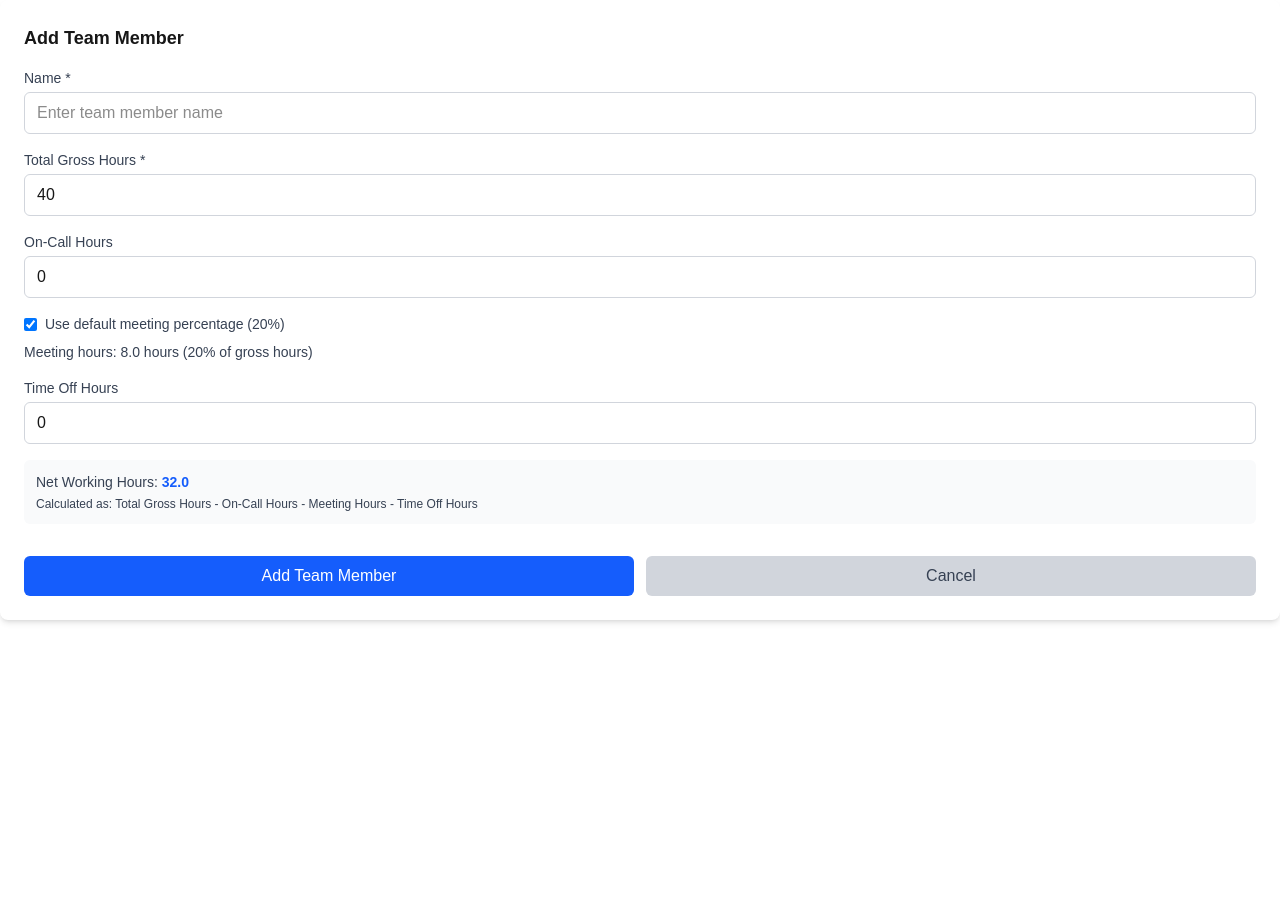
TeamMemberForm › should validate required name field
The width and height of the screenshot is (1280, 900).
Click the button "Add Team Member" at (329, 576), box [24,556,634,596]
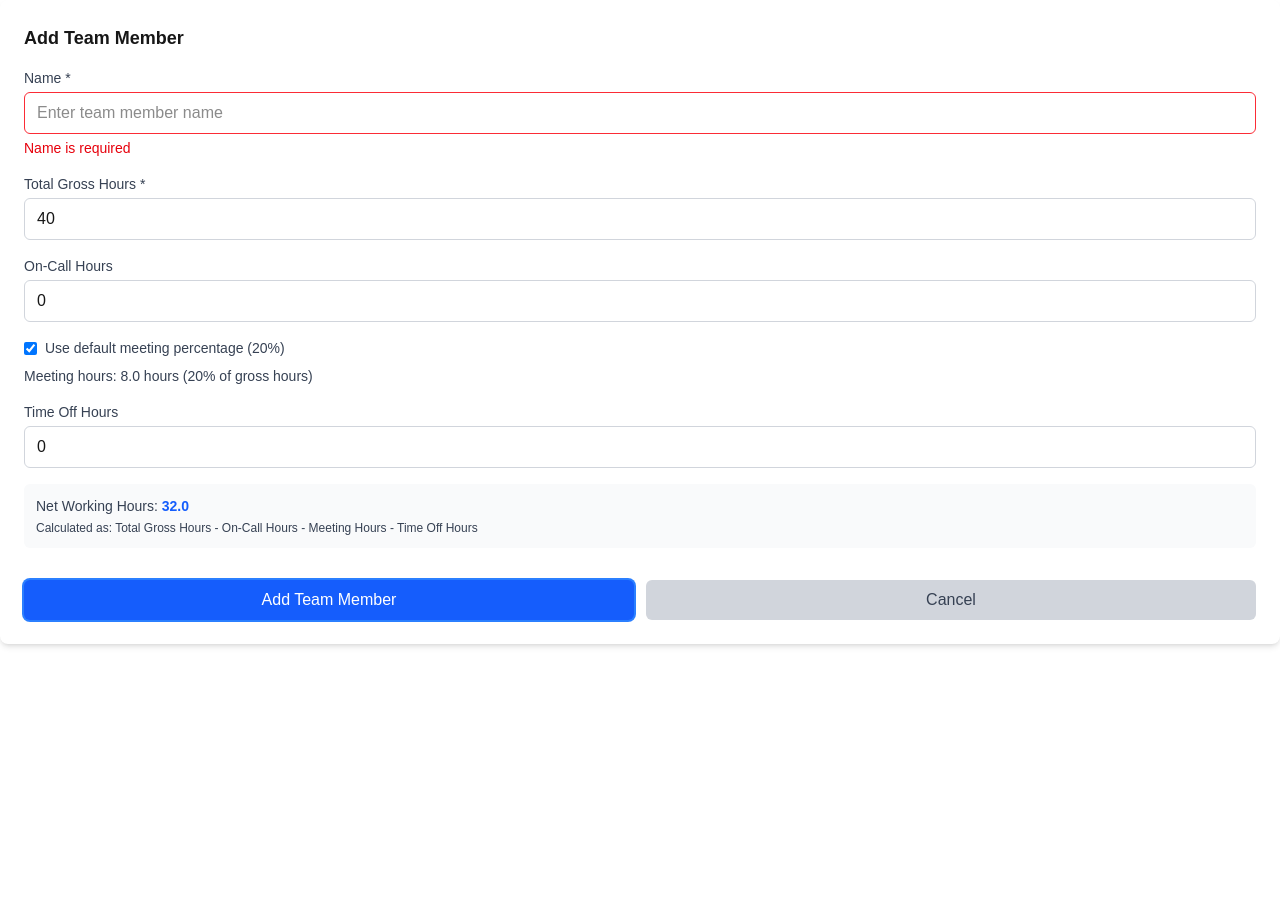
Now the text "Name is required" is shown, box [24,140,131,156]
